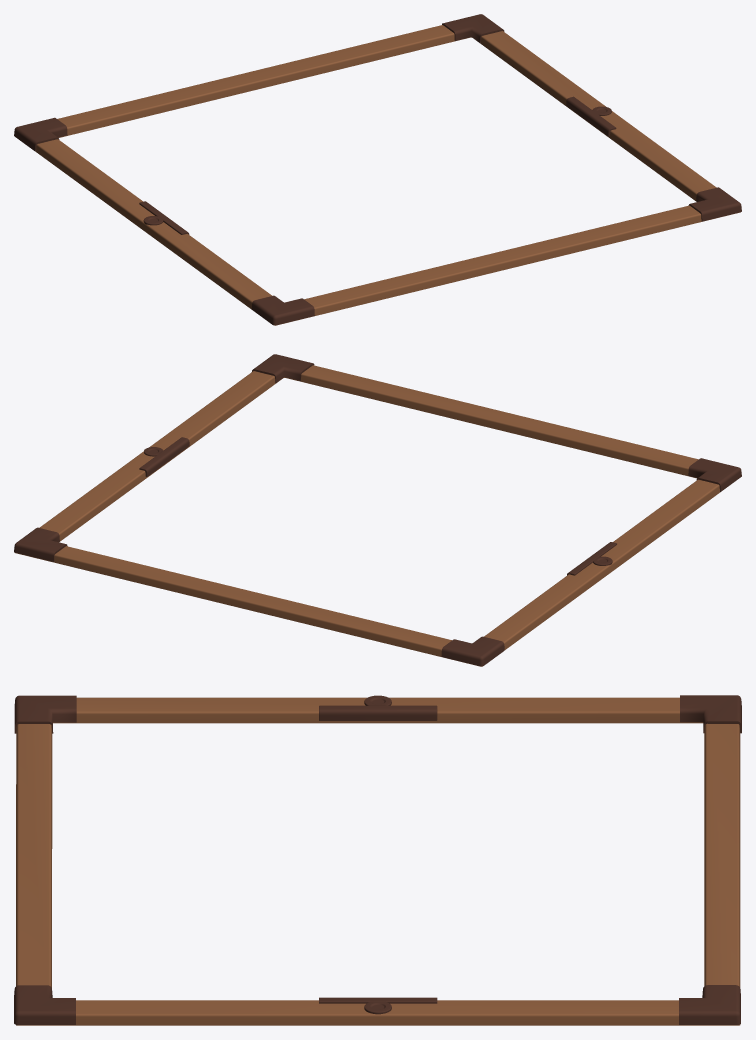
File: mjz_bian.fbx
The picture shows the model from 3 angles, top to bottom: view 1: azimuth 30°, elevation 25°; view 2: azimuth 150°, elevation 25°; view 3: azimuth 270°, elevation 25°; orthographic projection. The views are drawn at different scales.
Visible parts, largest first — view 1: Rectangle03, 对象005; view 2: Rectangle03, 对象005; view 3: Rectangle03, 对象005.
Boxes of the visible parts, x1,y1,x2,y2 form: Rectangle03: (35, 25, 740, 325); 对象005: (14, 14, 741, 325); Rectangle03: (14, 365, 720, 666); 对象005: (14, 354, 741, 666); Rectangle03: (16, 697, 740, 1025); 对象005: (14, 695, 741, 1024).
Size of the model in its own units: 133 by 2.82 by 128.
